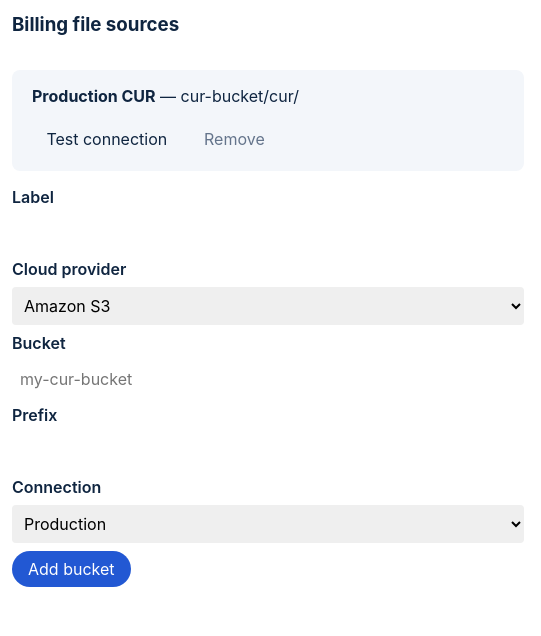
BillingFileSourcesPanel › testing a bucket › shows a failure beside the bucket it is about
Click the button "Test connection": (107, 139) [32,122,182,155]
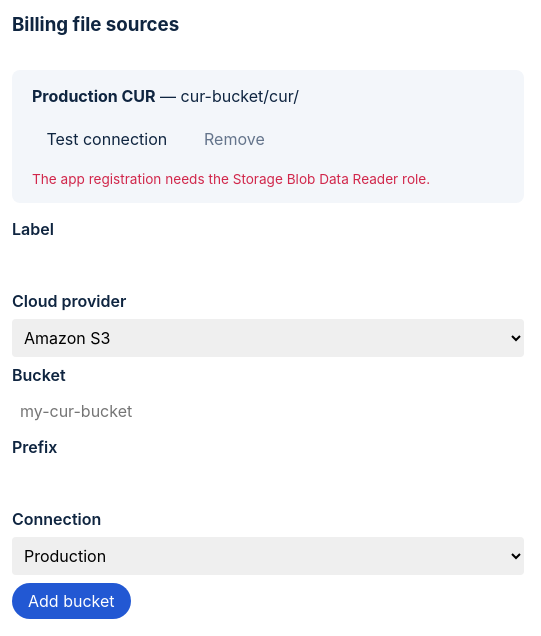
Expected: the message shows "Storage Blob Data Reader", [32,171,430,187]
